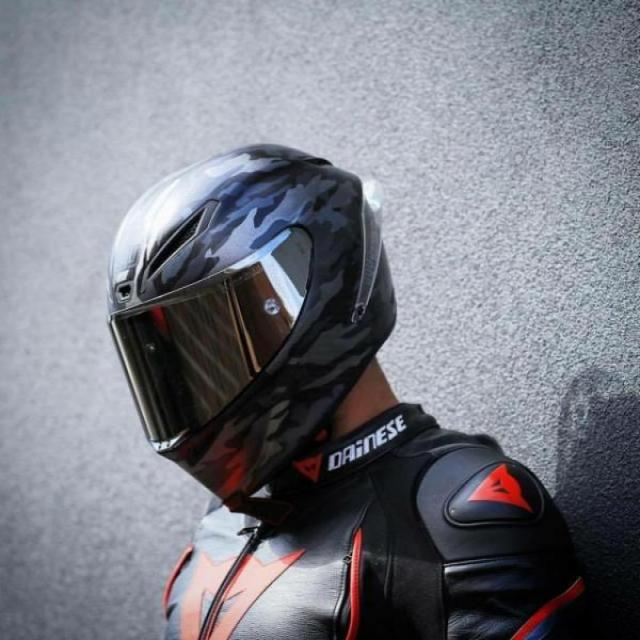Helmet: (105, 166, 358, 476)
